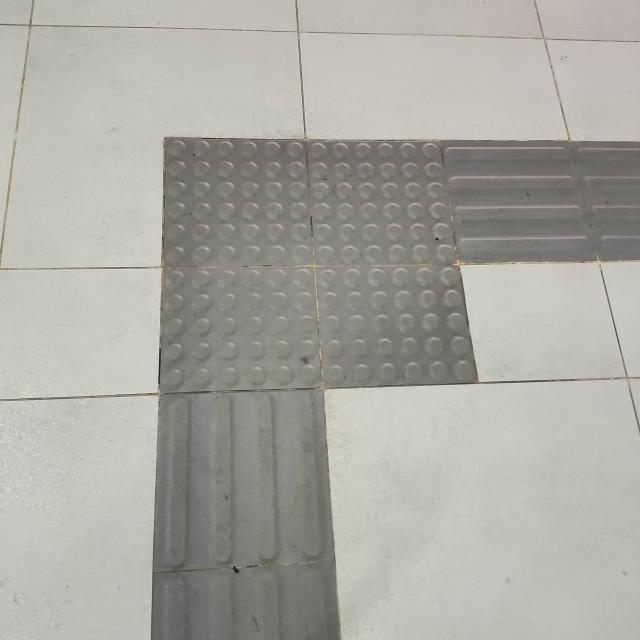kanan: (94, 89, 640, 504)
